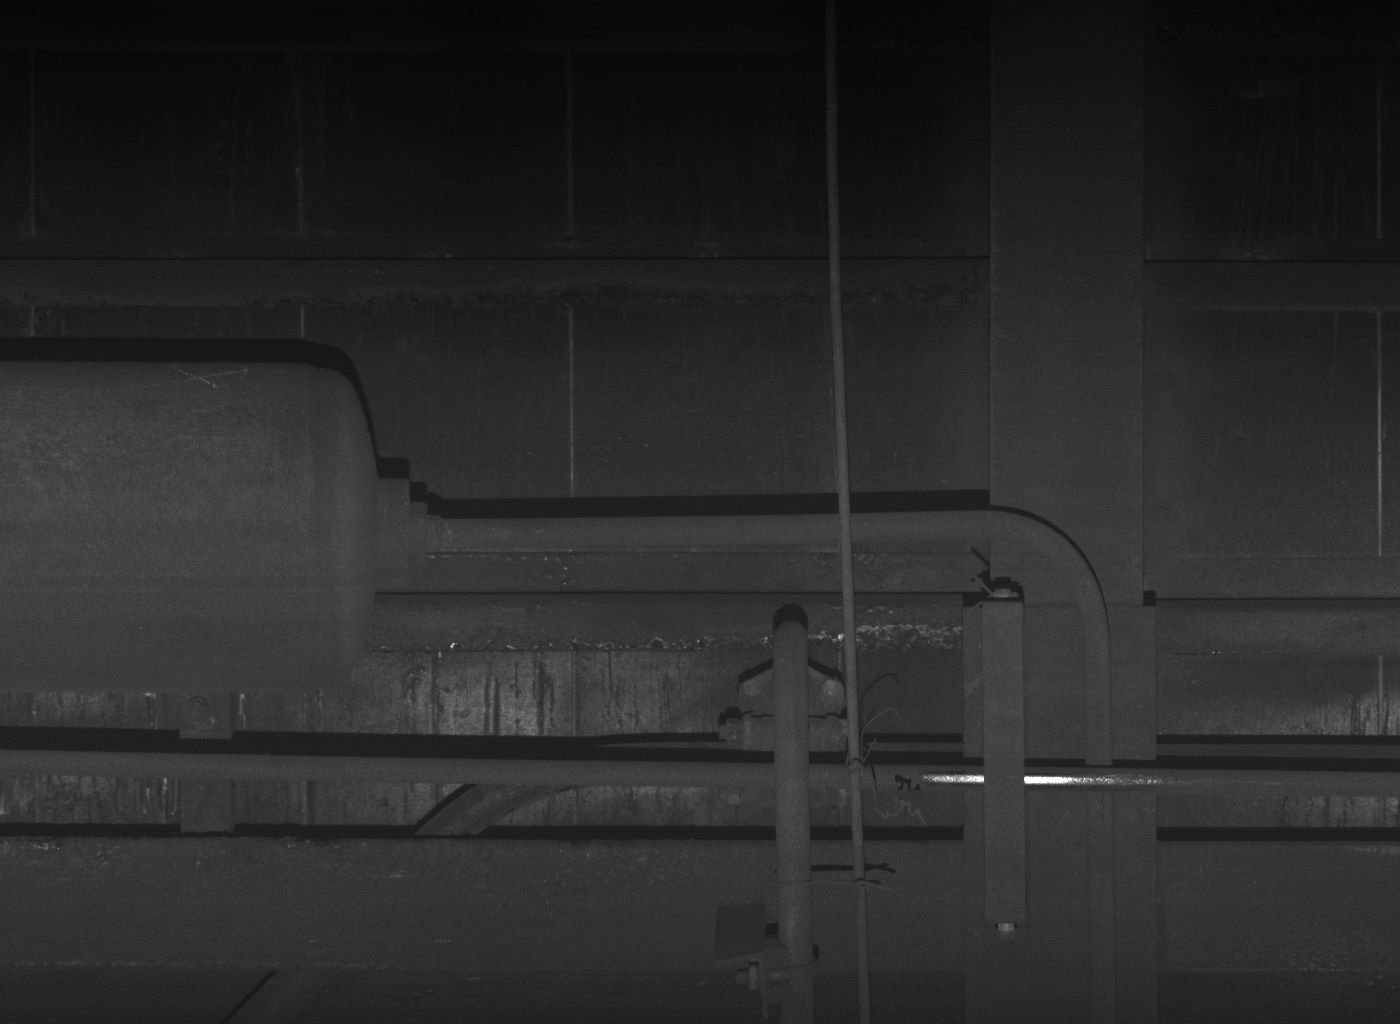normal: (974, 571, 1028, 932)
